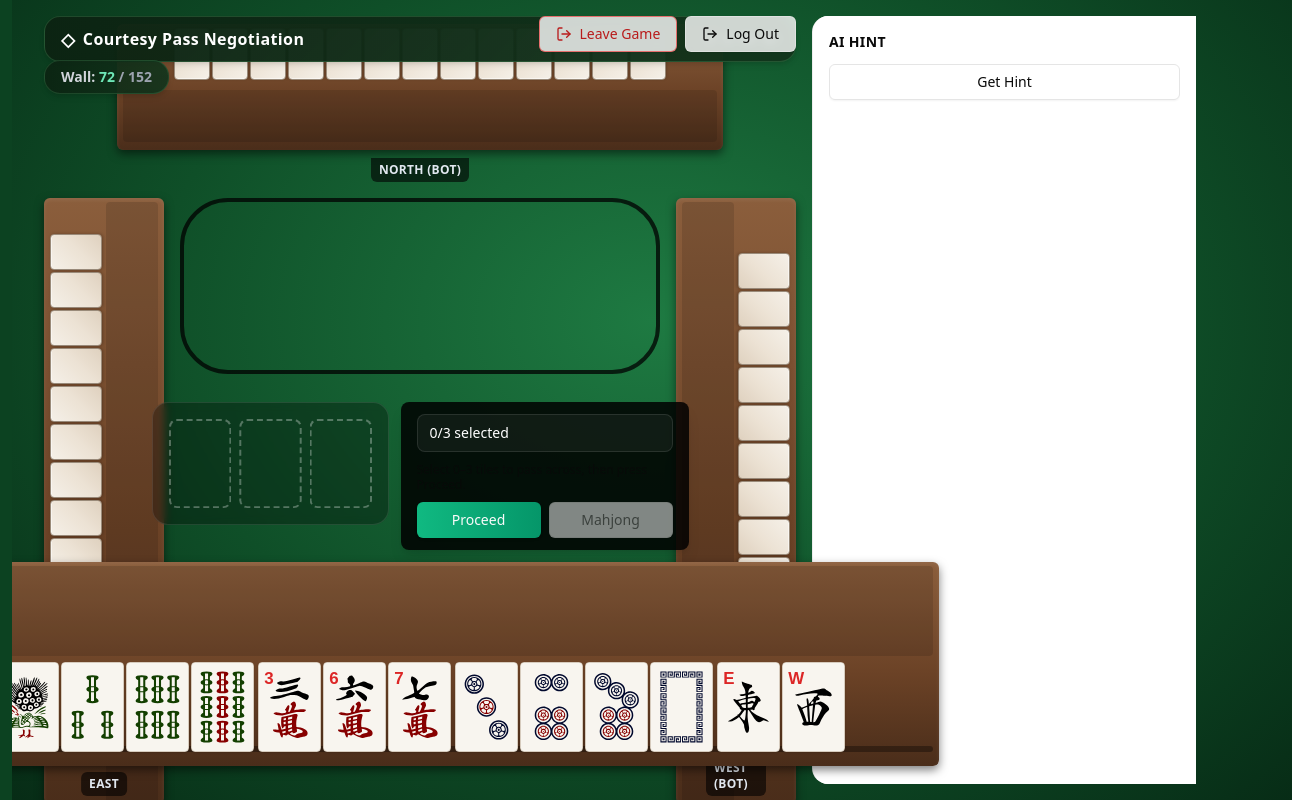
Scenario: US-051: Charleston Courtesy Pass Action Pane › submits a courtesy proposal through proceed using staged tiles
What coordinates should you click on to do the following:
click the button named "3 Bam"
I would click on:
 (92, 707)
Its box is [60, 662, 124, 752].
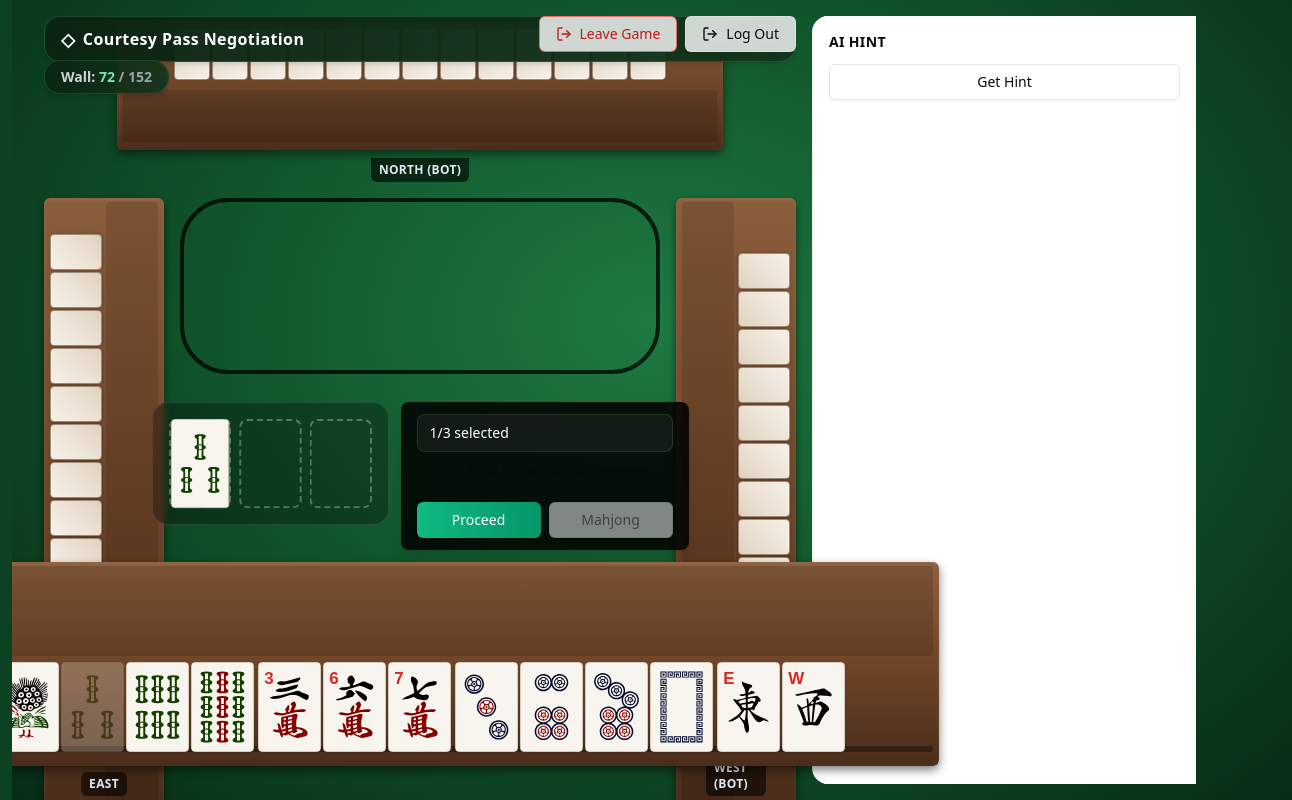
What coordinates should you click on to do the following:
click the button named "6 Bam"
I would click on:
 (157, 707)
Its box is [126, 662, 188, 752].
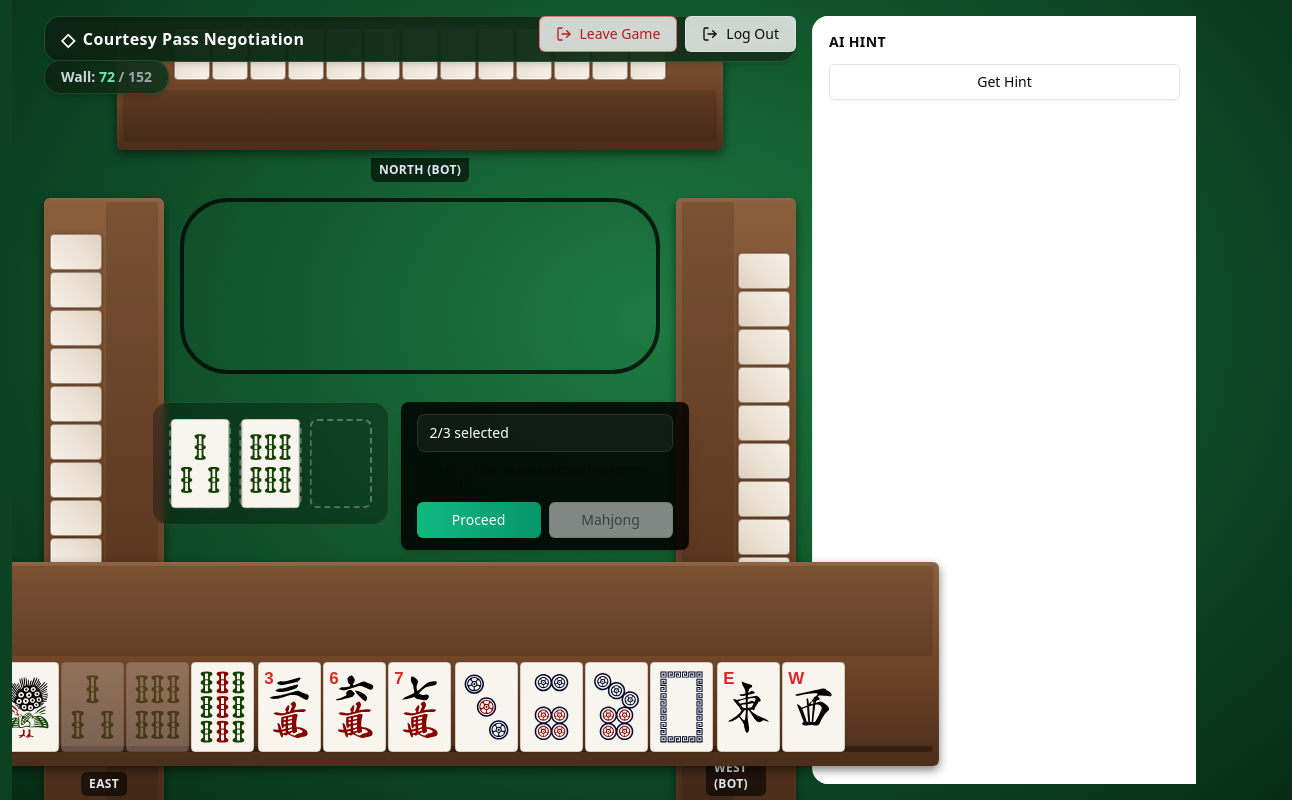
What coordinates should you click on to do the following:
click the button with test id "proceed-button"
I would click on:
 (478, 520)
Its box is [416, 502, 540, 538].
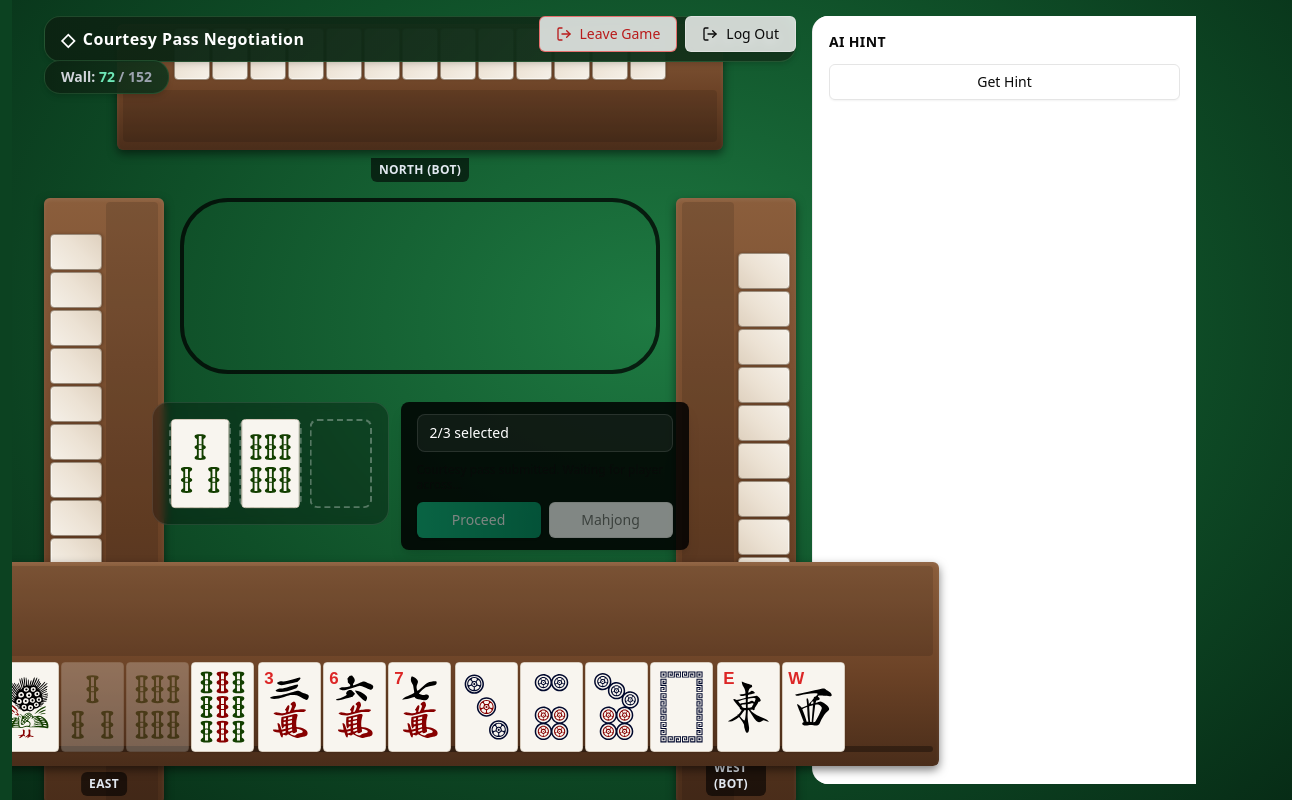
Expected: the button with test id "declare-mahjong-button" is disabled, [548, 502, 672, 538]
Expected: the button with test id "proceed-button" is disabled, [416, 502, 540, 538]
